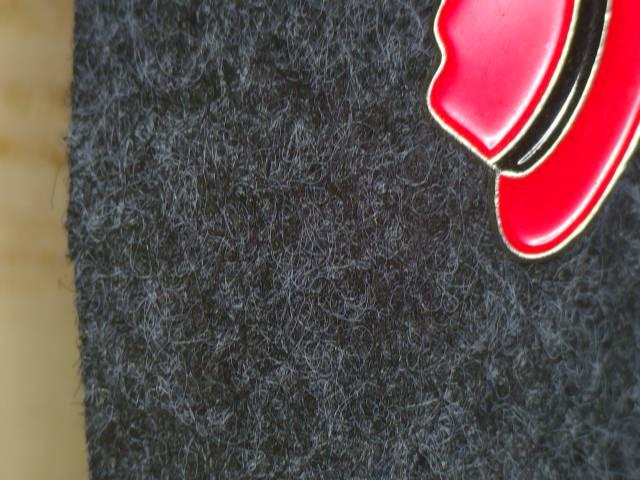Red-Hat: (415, 0, 640, 296)
